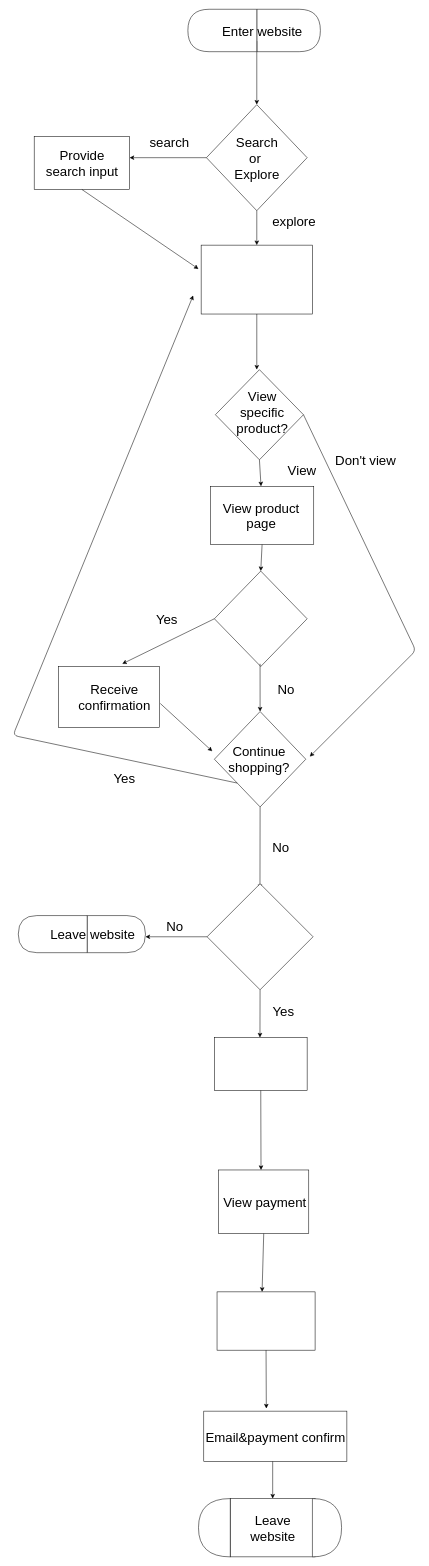
The diagram is 429 pixels wide and 1566 high, and some of its shapes have lost their labels. Each missing label, with the centre of its shape:
"Add to Cart?" belongs at point (260, 618).
"Begin looking over the products" belongs at point (256, 279).
"Check out?" belongs at point (260, 936).
"Input payment info" belongs at point (266, 1320).
"View cart" belongs at point (260, 1063).
